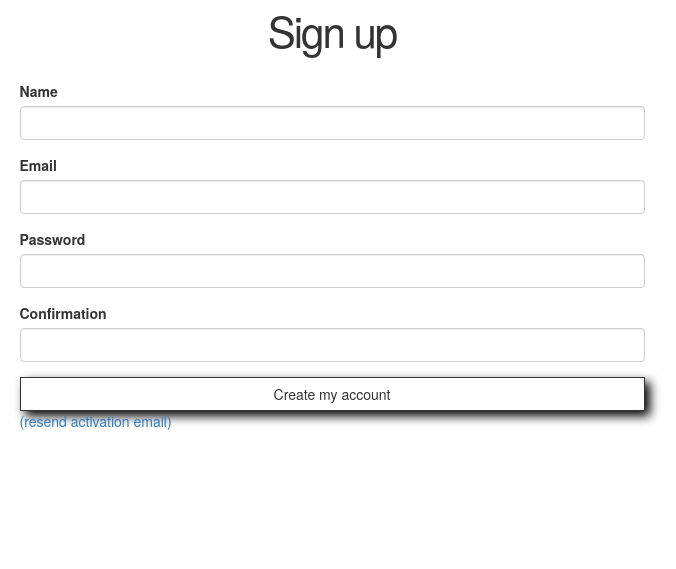
Signup Page › shows API field errors
In the field labelled "Name": (332, 123) x1=20 y1=106 x2=644 y2=140, type "Manh"
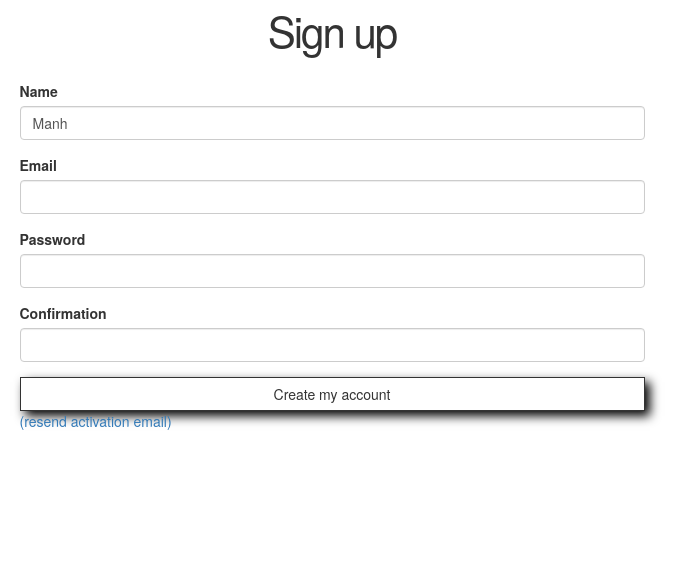
In the field labelled "Email": (332, 197) x1=20 y1=180 x2=644 y2=214, type "test@gmail.com"
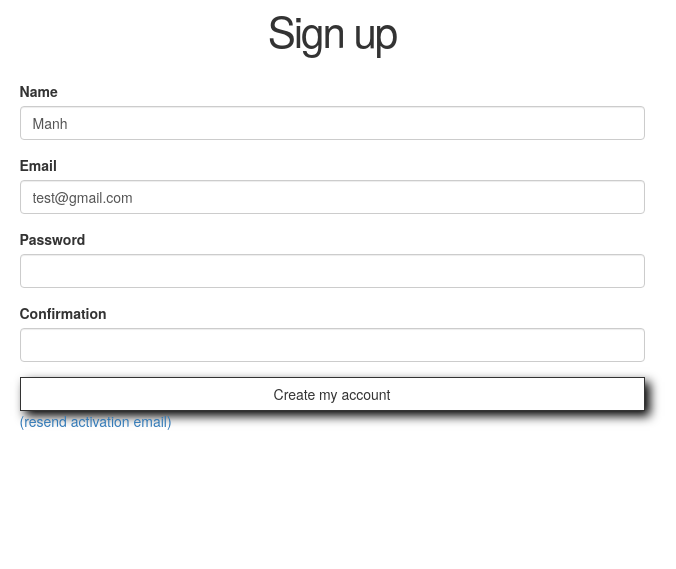
In the password field labelled "Password": (332, 271) x1=20 y1=254 x2=644 y2=288, type "123456"
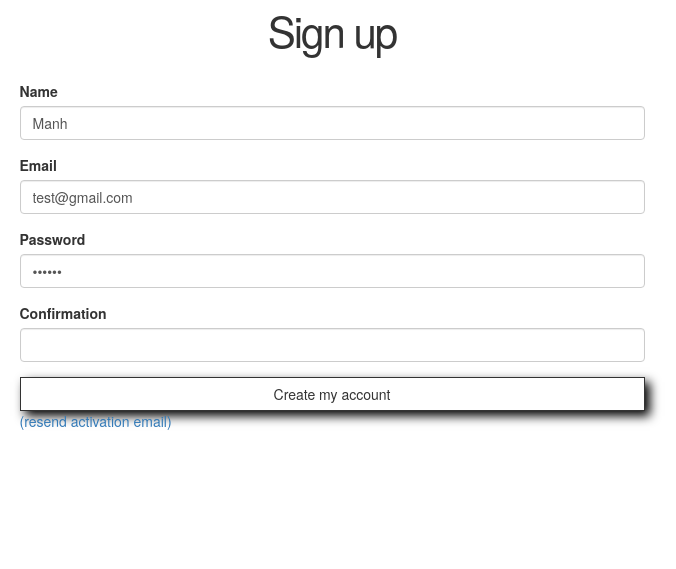
In the password field labelled "Confirmation": (332, 345) x1=20 y1=328 x2=644 y2=362, type "123456"
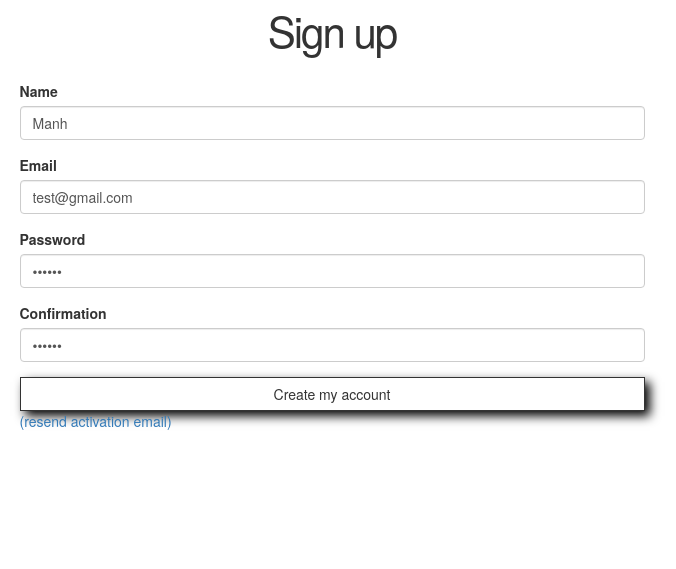
Click the button "Create my account": (332, 394) x1=20 y1=377 x2=644 y2=411
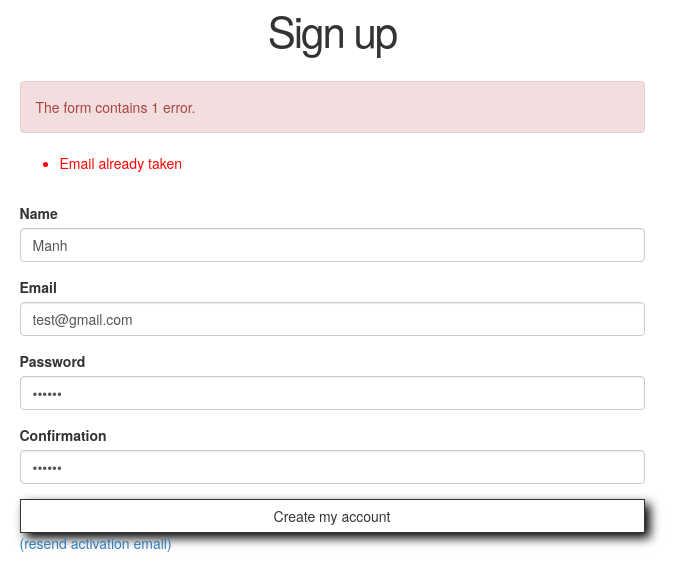
Result: the list item "Email already taken" is shown at x1=60 y1=153 x2=182 y2=173
